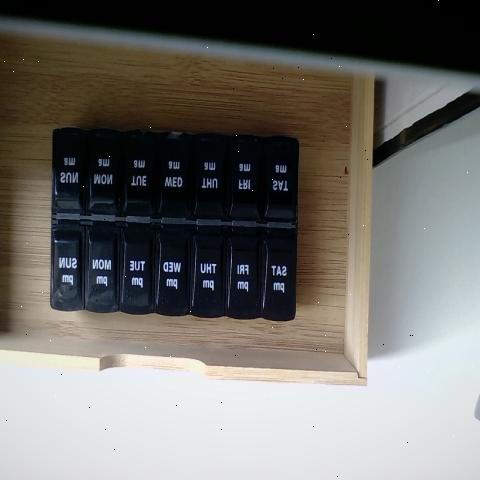FRI-am: (231, 138, 265, 224)
FRI-pm: (228, 231, 265, 317)
MON-am: (88, 134, 121, 222)
MON-pm: (86, 224, 122, 310)
SAT-am: (265, 138, 296, 229)
SAT-pm: (265, 234, 297, 319)
SUN-am: (51, 131, 86, 222)
SUN-pm: (51, 223, 85, 308)
THU-am: (197, 141, 227, 227)
THU-pm: (194, 230, 228, 316)
TUE-am: (122, 133, 160, 218)
TUE-pm: (121, 222, 158, 314)
WED-am: (160, 132, 196, 221)
WED-pm: (156, 227, 196, 319)
